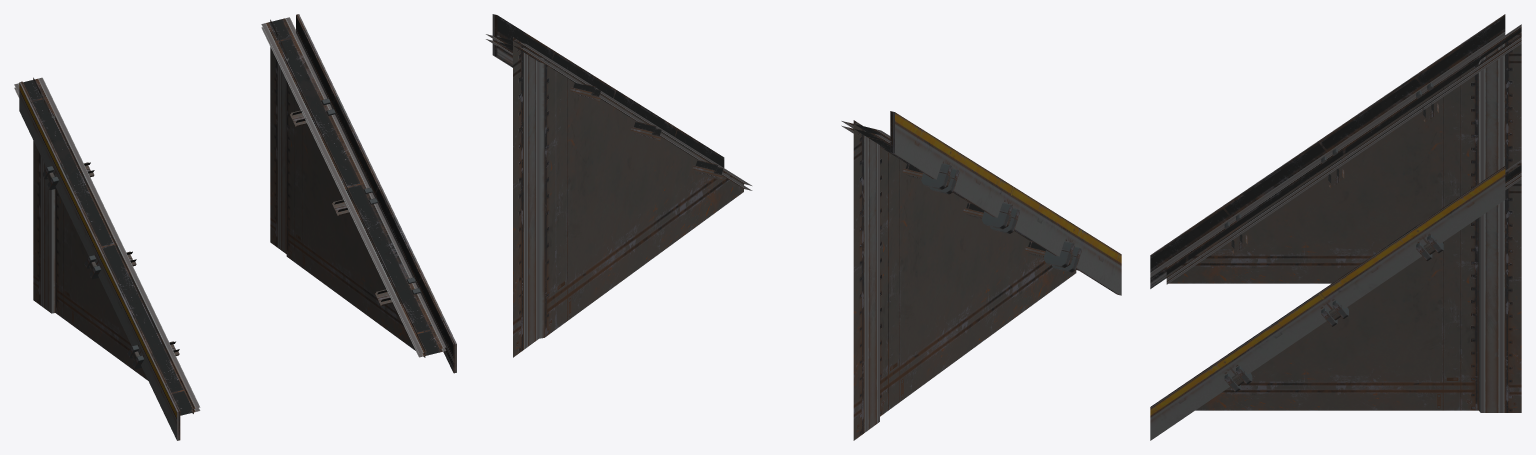
The model's file is Concrete_Wall1_Stairs1_Side.fbx.
The picture shows the model from 3 angles, left to right: view 1: azimuth 30°, elevation 25°; view 2: azimuth 150°, elevation 25°; view 3: azimuth 270°, elevation 25°; orthographic projection. The views are drawn at different scales.
Visible parts, largest first — view 1: Concrete_Wall1_Stairs1_Side; view 2: Concrete_Wall1_Stairs1_Side; view 3: Concrete_Wall1_Stairs1_Side.
Boxes of the visible parts, <box> form: Concrete_Wall1_Stairs1_Side: <box>14,14,456,440</box>; Concrete_Wall1_Stairs1_Side: <box>486,14,1121,440</box>; Concrete_Wall1_Stairs1_Side: <box>1150,14,1521,440</box>.
Bounding box in the file's own units: 425 × 340 × 418.
